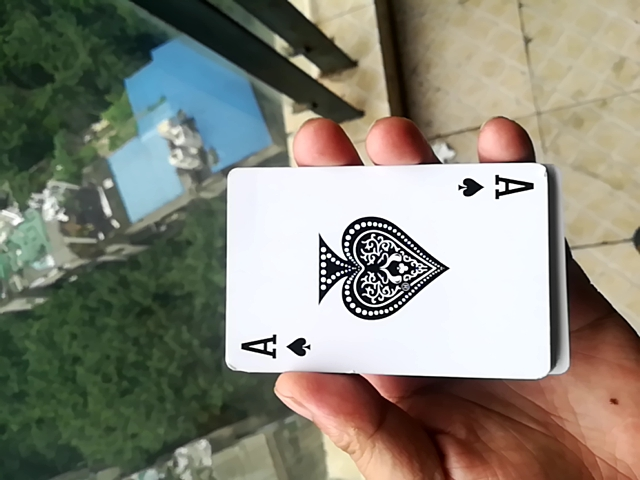ht a: (220, 158, 557, 390)
